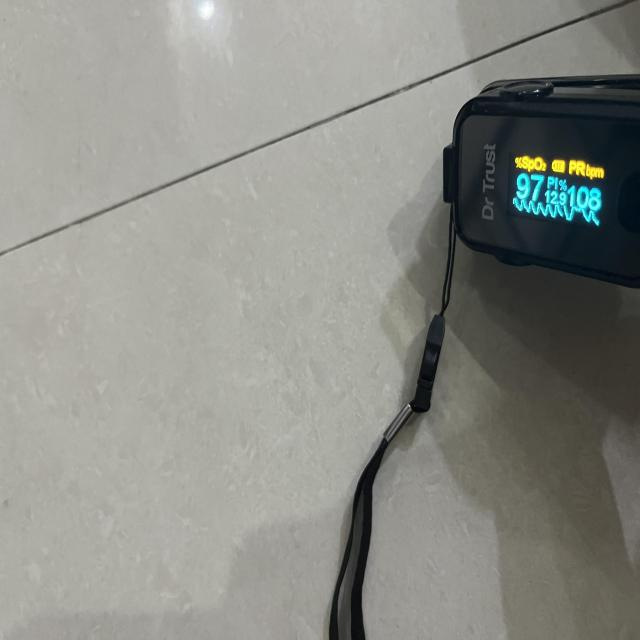spo2: (443, 75, 640, 290)
